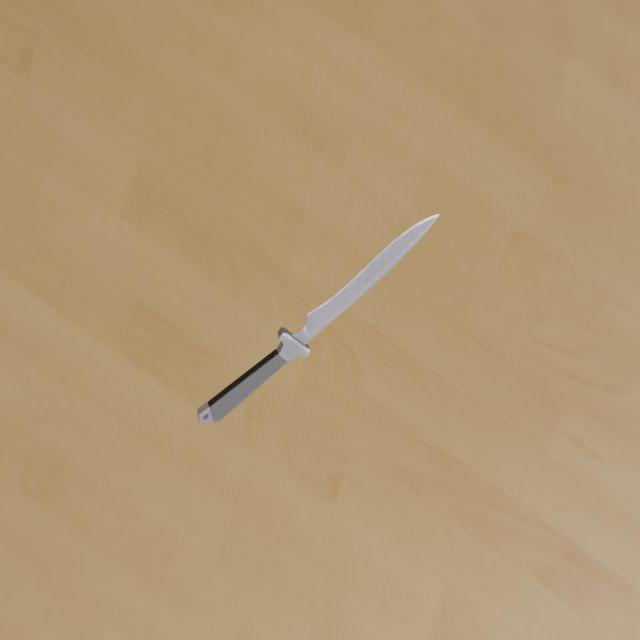knife: (198, 349, 288, 424)
